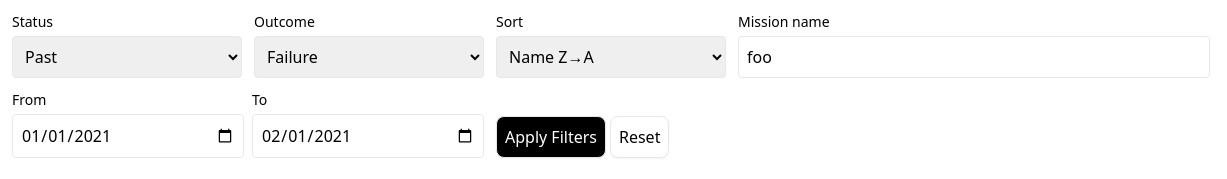
it: FiltersBar (with data-testid) › reset restores defaults and routes to bare pathname
The width and height of the screenshot is (1227, 179).
Click the button "Reset" at (640, 137), box [610, 116, 670, 158]
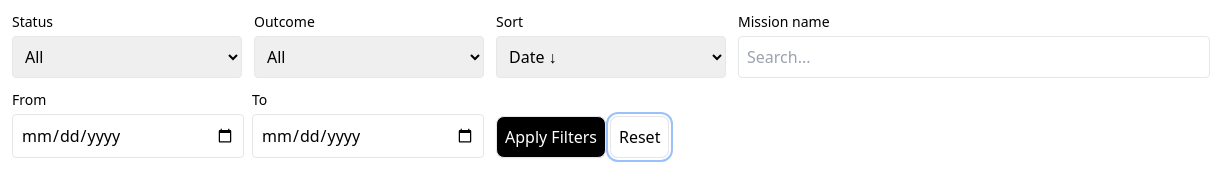
Expected: the dropdown with test id "status" shows "All", [12, 36, 242, 78]
Expected: the dropdown with test id "outcome" shows "All", [254, 36, 484, 78]
Expected: the dropdown with test id "sort" shows "Date ↓", [496, 36, 726, 78]
